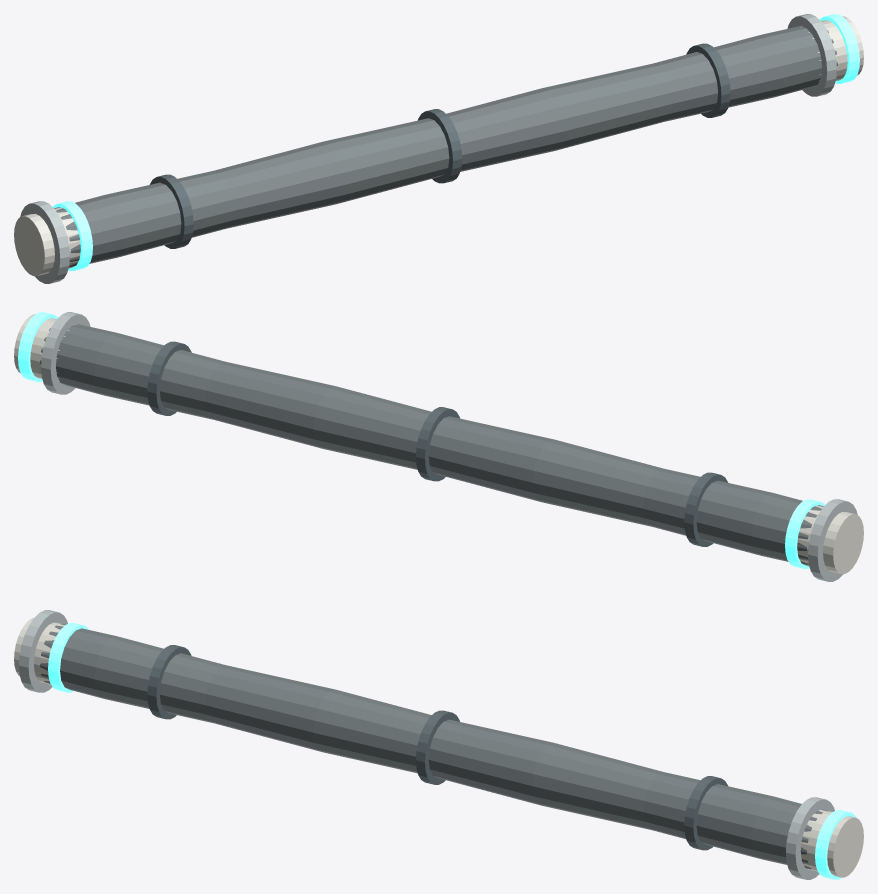
File: s7-i03-hose-straight-1p0m.glb
The picture shows the model from 3 angles, top to bottom: view 1: azimuth 30°, elevation 25°; view 2: azimuth 150°, elevation 25°; view 3: azimuth 330°, elevation 25°; orthographic projection.
Parts seen in each view (by area): view 1: 000_actual_curved_hose_swept_3d, 001_end_0_sealing_socket, 003_end_0_locking_collar, 006_end_1_locking_collar, 008_rib_banding_1, 009_rib_banding_2, 007_rib_banding_0, 005_end_1_cyan_snap_seal, 002_end_0_cyan_snap_seal, 004_end_1_sealing_socket; view 2: 000_actual_curved_hose_swept_3d, 001_end_0_sealing_socket, 003_end_0_locking_collar, 006_end_1_locking_collar, 008_rib_banding_1, 009_rib_banding_2, 007_rib_banding_0, 005_end_1_cyan_snap_seal, 002_end_0_cyan_snap_seal, 004_end_1_sealing_socket; view 3: 000_actual_curved_hose_swept_3d, 004_end_1_sealing_socket, 003_end_0_locking_collar, 006_end_1_locking_collar, 008_rib_banding_1, 007_rib_banding_0, 009_rib_banding_2, 001_end_0_sealing_socket, 005_end_1_cyan_snap_seal, 002_end_0_cyan_snap_seal.
Boxes of the visible parts, x1=… form: 000_actual_curved_hose_swept_3d: x1=54, y1=26, x2=837, y2=267; 001_end_0_sealing_socket: x1=14, y1=207, x2=80, y2=275; 003_end_0_locking_collar: x1=20, y1=201, x2=69, y2=283; 006_end_1_locking_collar: x1=787, y1=14, x2=836, y2=96; 008_rib_banding_1: x1=418, y1=109, x2=462, y2=183; 009_rib_banding_2: x1=686, y1=43, x2=730, y2=117; 007_rib_banding_0: x1=149, y1=174, x2=193, y2=248; 005_end_1_cyan_snap_seal: x1=819, y1=14, x2=859, y2=83; 002_end_0_cyan_snap_seal: x1=53, y1=201, x2=92, y2=270; 004_end_1_sealing_socket: x1=800, y1=16, x2=863, y2=80; 000_actual_curved_hose_swept_3d: x1=40, y1=324, x2=823, y2=565; 001_end_0_sealing_socket: x1=797, y1=505, x2=863, y2=573; 003_end_0_locking_collar: x1=808, y1=499, x2=857, y2=581; 006_end_1_locking_collar: x1=41, y1=312, x2=90, y2=394; 008_rib_banding_1: x1=415, y1=407, x2=459, y2=481; 009_rib_banding_2: x1=147, y1=341, x2=191, y2=415; 007_rib_banding_0: x1=684, y1=472, x2=728, y2=546; 005_end_1_cyan_snap_seal: x1=18, y1=312, x2=58, y2=381; 002_end_0_cyan_snap_seal: x1=785, y1=499, x2=824, y2=568; 004_end_1_sealing_socket: x1=14, y1=314, x2=77, y2=378; 000_actual_curved_hose_swept_3d: x1=40, y1=624, x2=828, y2=869; 004_end_1_sealing_socket: x1=801, y1=809, x2=863, y2=877; 003_end_0_locking_collar: x1=19, y1=610, x2=67, y2=692; 006_end_1_locking_collar: x1=786, y1=797, x2=834, y2=879; 008_rib_banding_1: x1=415, y1=710, x2=459, y2=784; 007_rib_banding_0: x1=147, y1=645, x2=191, y2=719; 009_rib_banding_2: x1=684, y1=776, x2=727, y2=850; 001_end_0_sealing_socket: x1=14, y1=618, x2=64, y2=684; 005_end_1_cyan_snap_seal: x1=815, y1=810, x2=856, y2=879; 002_end_0_cyan_snap_seal: x1=48, y1=623, x2=88, y2=692.
Bounding box in the file's own units: 1.07 × 0.0935 × 0.0935.
